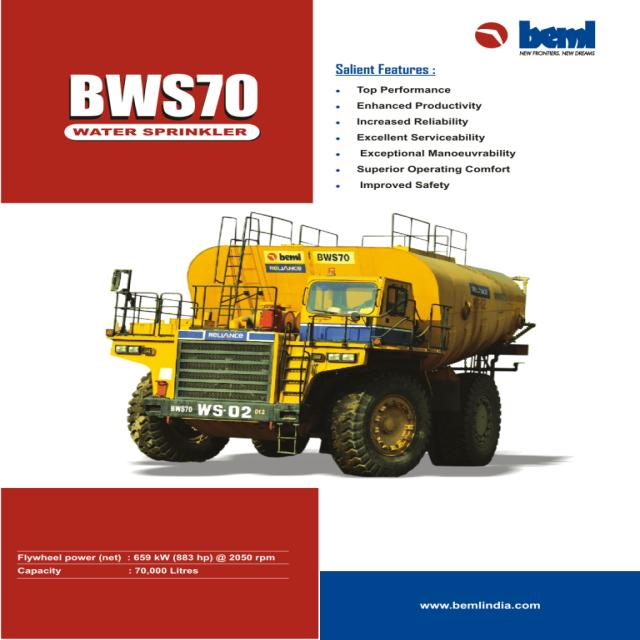dump_truck: (98, 210, 540, 484)
